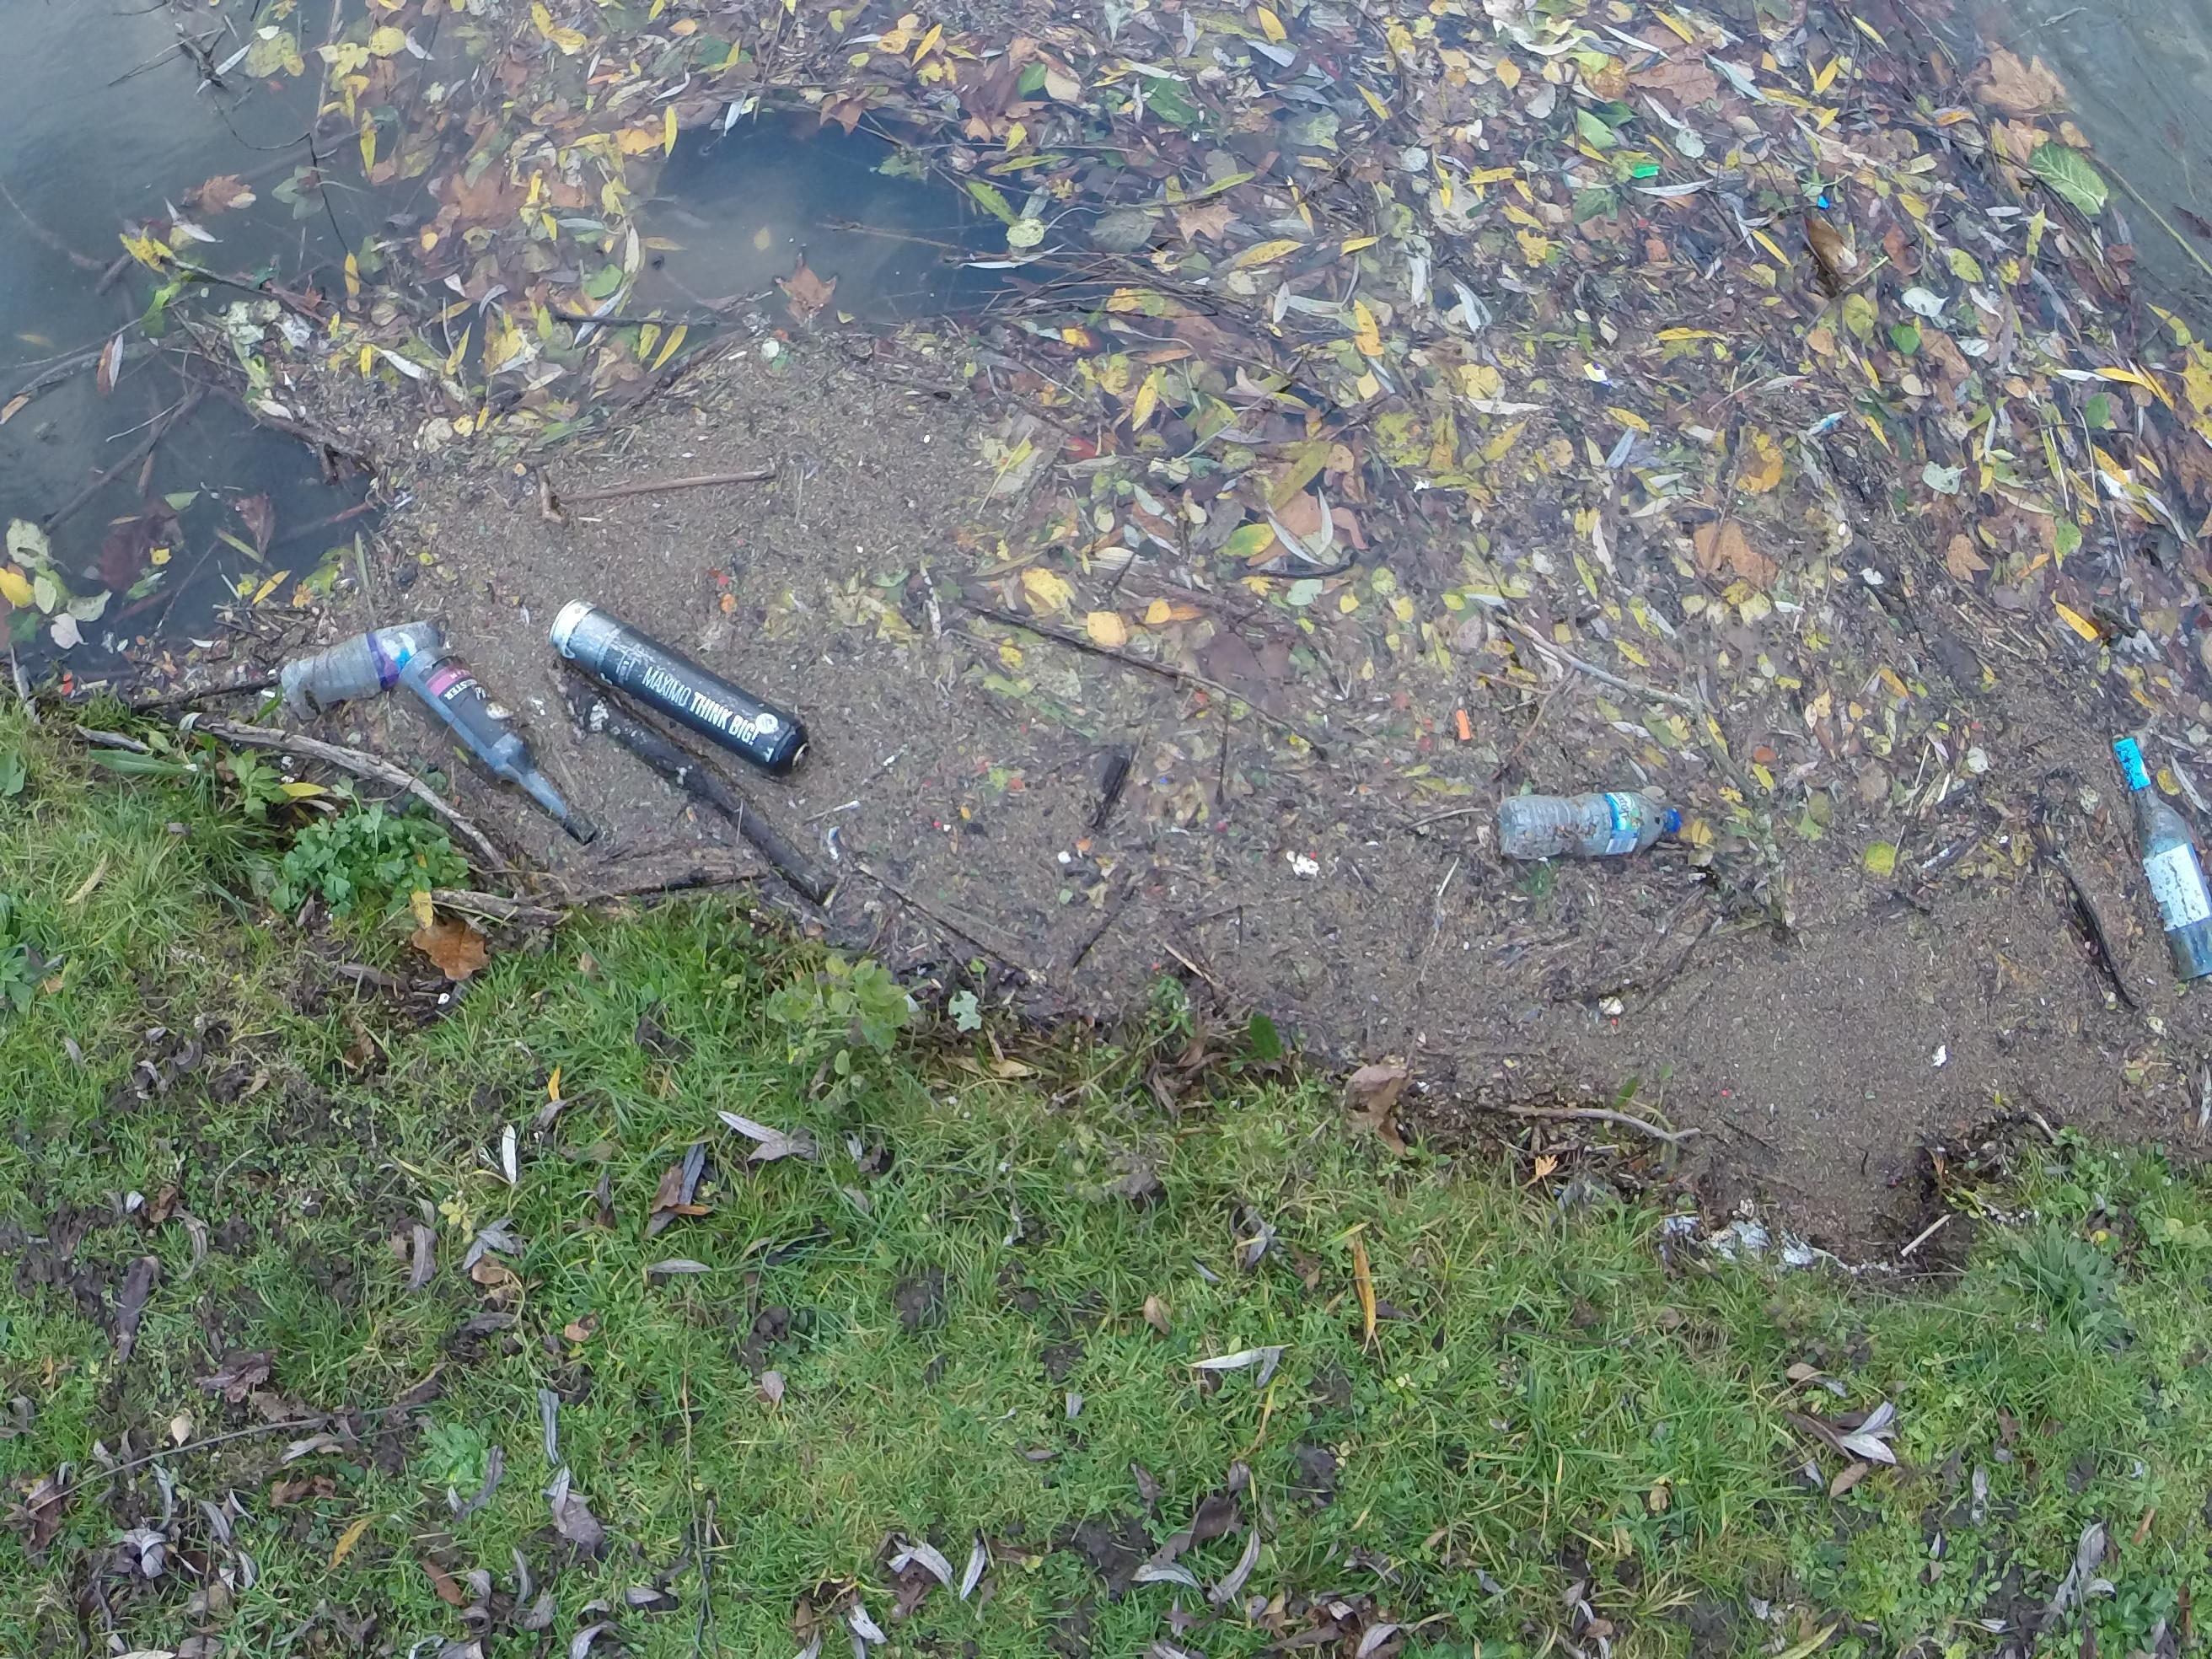Trash: (540, 607, 816, 775), (396, 670, 609, 844), (2097, 724, 2211, 988), (252, 628, 453, 706), (1493, 802, 1694, 867)
